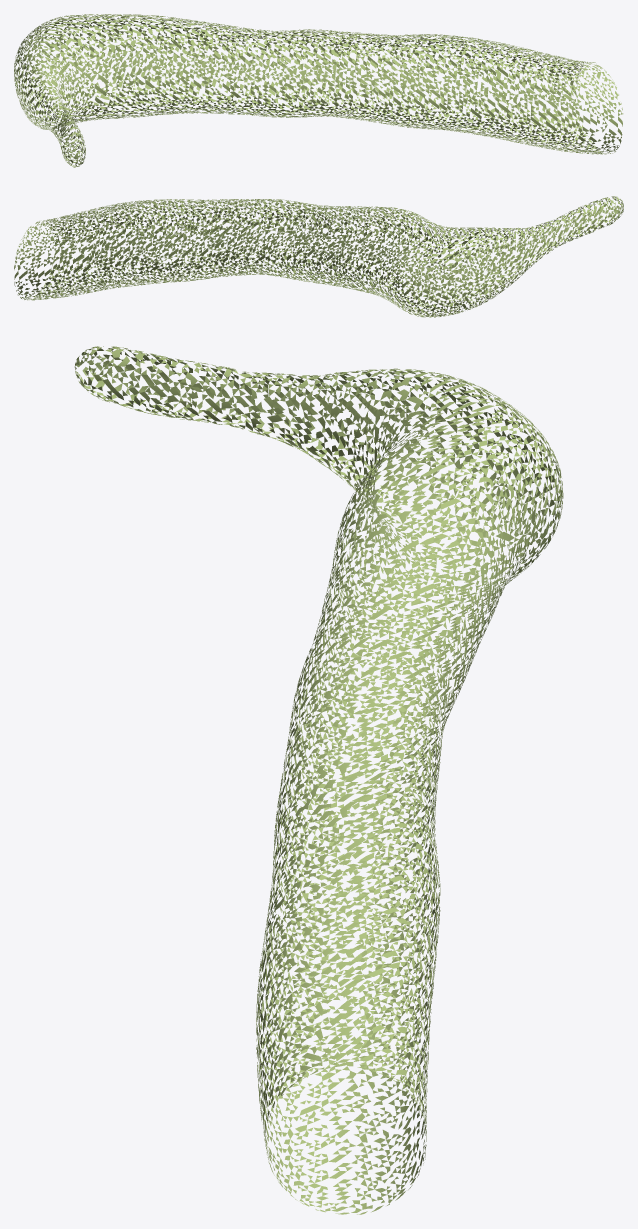
Rendered from morph_011.glb.
3 views of the same model, one above another, from view 1: azimuth 30°, elevation 25°; view 2: azimuth 150°, elevation 25°; view 3: azimuth 270°, elevation 25° (orthographic). The views are drawn at different scales.
Bounding box in the file's own units: 121 × 42.67 × 48.6.
